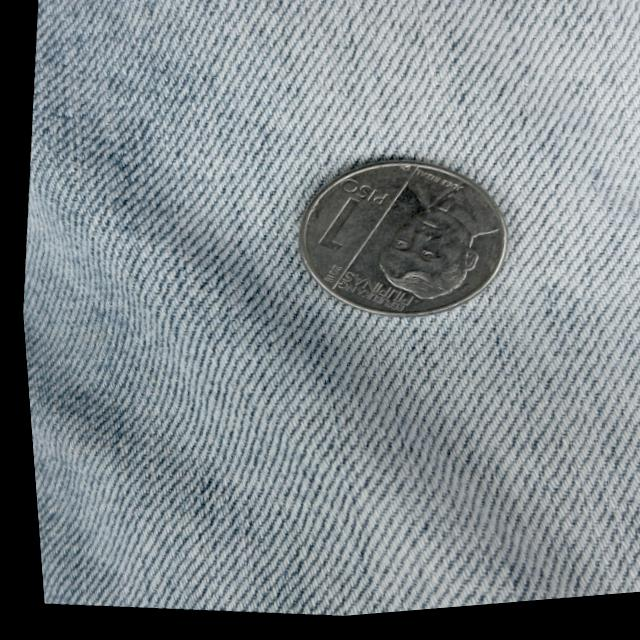1_New_Front: (301, 171, 394, 280)
